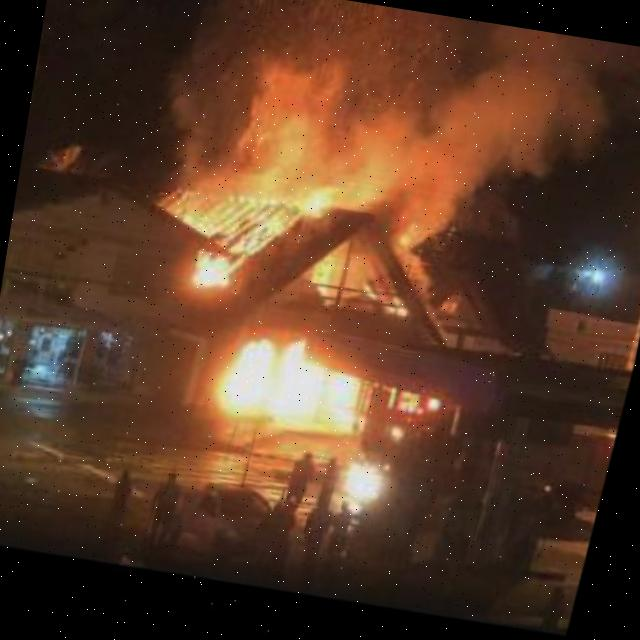fire: (167, 93, 389, 274), (216, 322, 378, 442), (196, 242, 249, 296), (360, 285, 412, 323), (402, 220, 430, 252)
